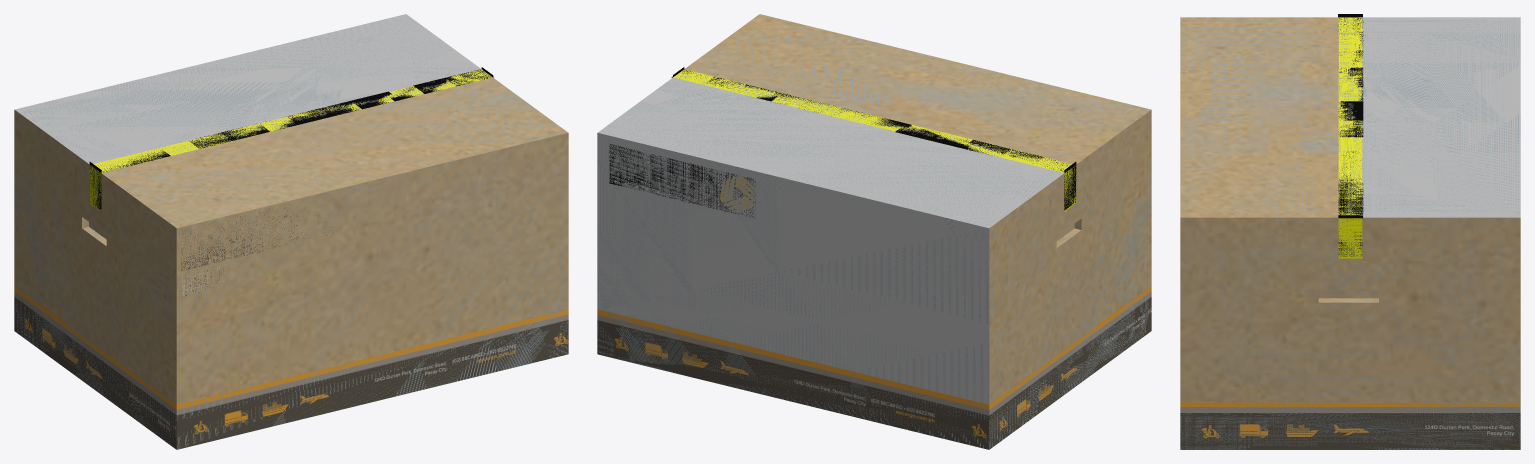
3 views of the same model, side by side, from view 1: azimuth 30°, elevation 25°; view 2: azimuth 150°, elevation 25°; view 3: azimuth 270°, elevation 25° (orthographic). The views are drawn at different scales.
Visible parts, largest first — view 1: SketchUp (×4); view 2: SketchUp (×4), image_5; view 3: SketchUp (×6), image_10, image_12, image_15.
Part boxes in pixels (box(x1,y1,x2,y2)): SketchUp (×4): box(14, 14, 568, 449); SketchUp (×4): box(597, 14, 1151, 449); image_5: box(609, 144, 755, 217); SketchUp (×6): box(1180, 17, 1520, 449); image_10: box(1338, 199, 1363, 218); image_12: box(1338, 101, 1363, 120); image_15: box(1338, 182, 1363, 201).
Bounding box in the file's own units: 17.74 × 12.69 × 9.7.
